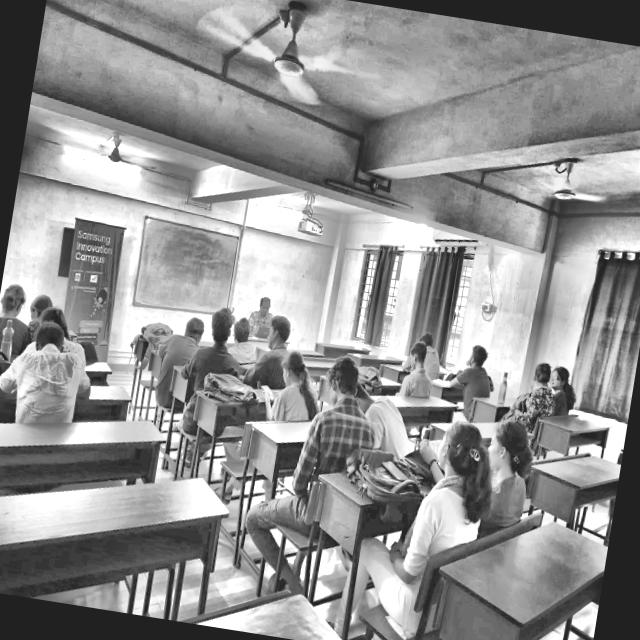Focus: (202, 296, 268, 366), (156, 305, 224, 366), (450, 328, 500, 379), (410, 316, 448, 370)
Not Focus: (310, 333, 409, 449), (10, 300, 86, 392), (264, 339, 332, 426), (0, 270, 84, 337), (507, 342, 582, 413), (390, 330, 433, 383), (252, 292, 288, 340)
